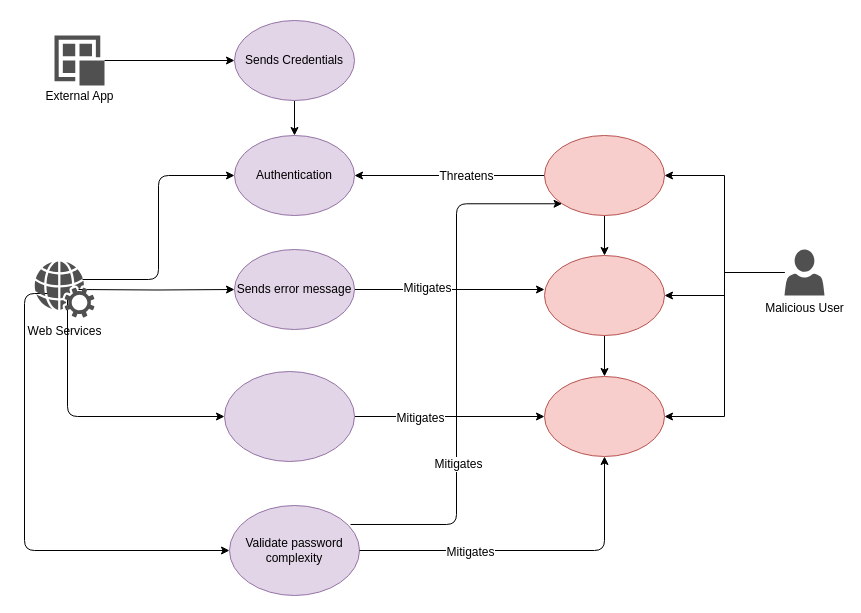
This 861x613 diagram has some shape labels left out. The shapes that lost their labels are listed below. From the top down, each one's centre as x and y in pixels, then its label:
At point (604, 175): "Brute Force Authentication".
At point (604, 295): "Guesses valid credentials".
At point (289, 416): "Locks account/ip after 5 failed attempts".
At point (604, 416): "Dictionary Attacks".
